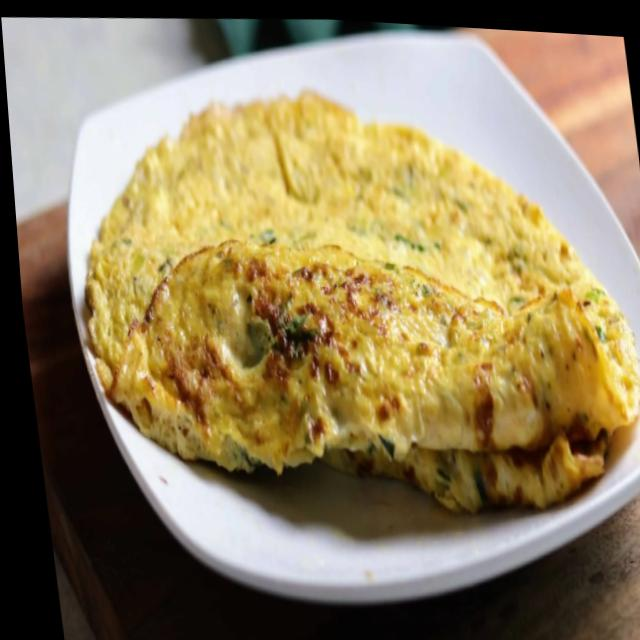EGG: (73, 87, 640, 514)
